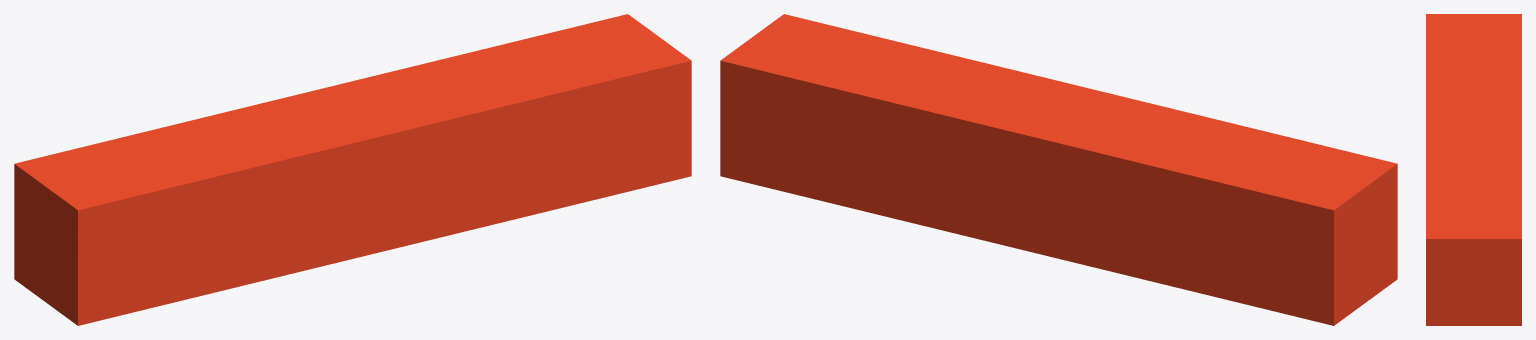
Rendered from SM_Roof_Beam_Wood_1m.fbx.
3 views of the same model, side by side, from view 1: azimuth 30°, elevation 25°; view 2: azimuth 150°, elevation 25°; view 3: azimuth 270°, elevation 25° (orthographic). The views are drawn at different scales.
Parts seen in each view (by area): view 1: roof-beam-wood-1m; view 2: roof-beam-wood-1m; view 3: roof-beam-wood-1m.
Part boxes in pixels (bbox=[...]): roof-beam-wood-1m: bbox=[14, 14, 691, 325]; roof-beam-wood-1m: bbox=[720, 14, 1397, 325]; roof-beam-wood-1m: bbox=[1426, 14, 1521, 325].
Size of the model in its own units: 1 by 0.18 by 0.18.
